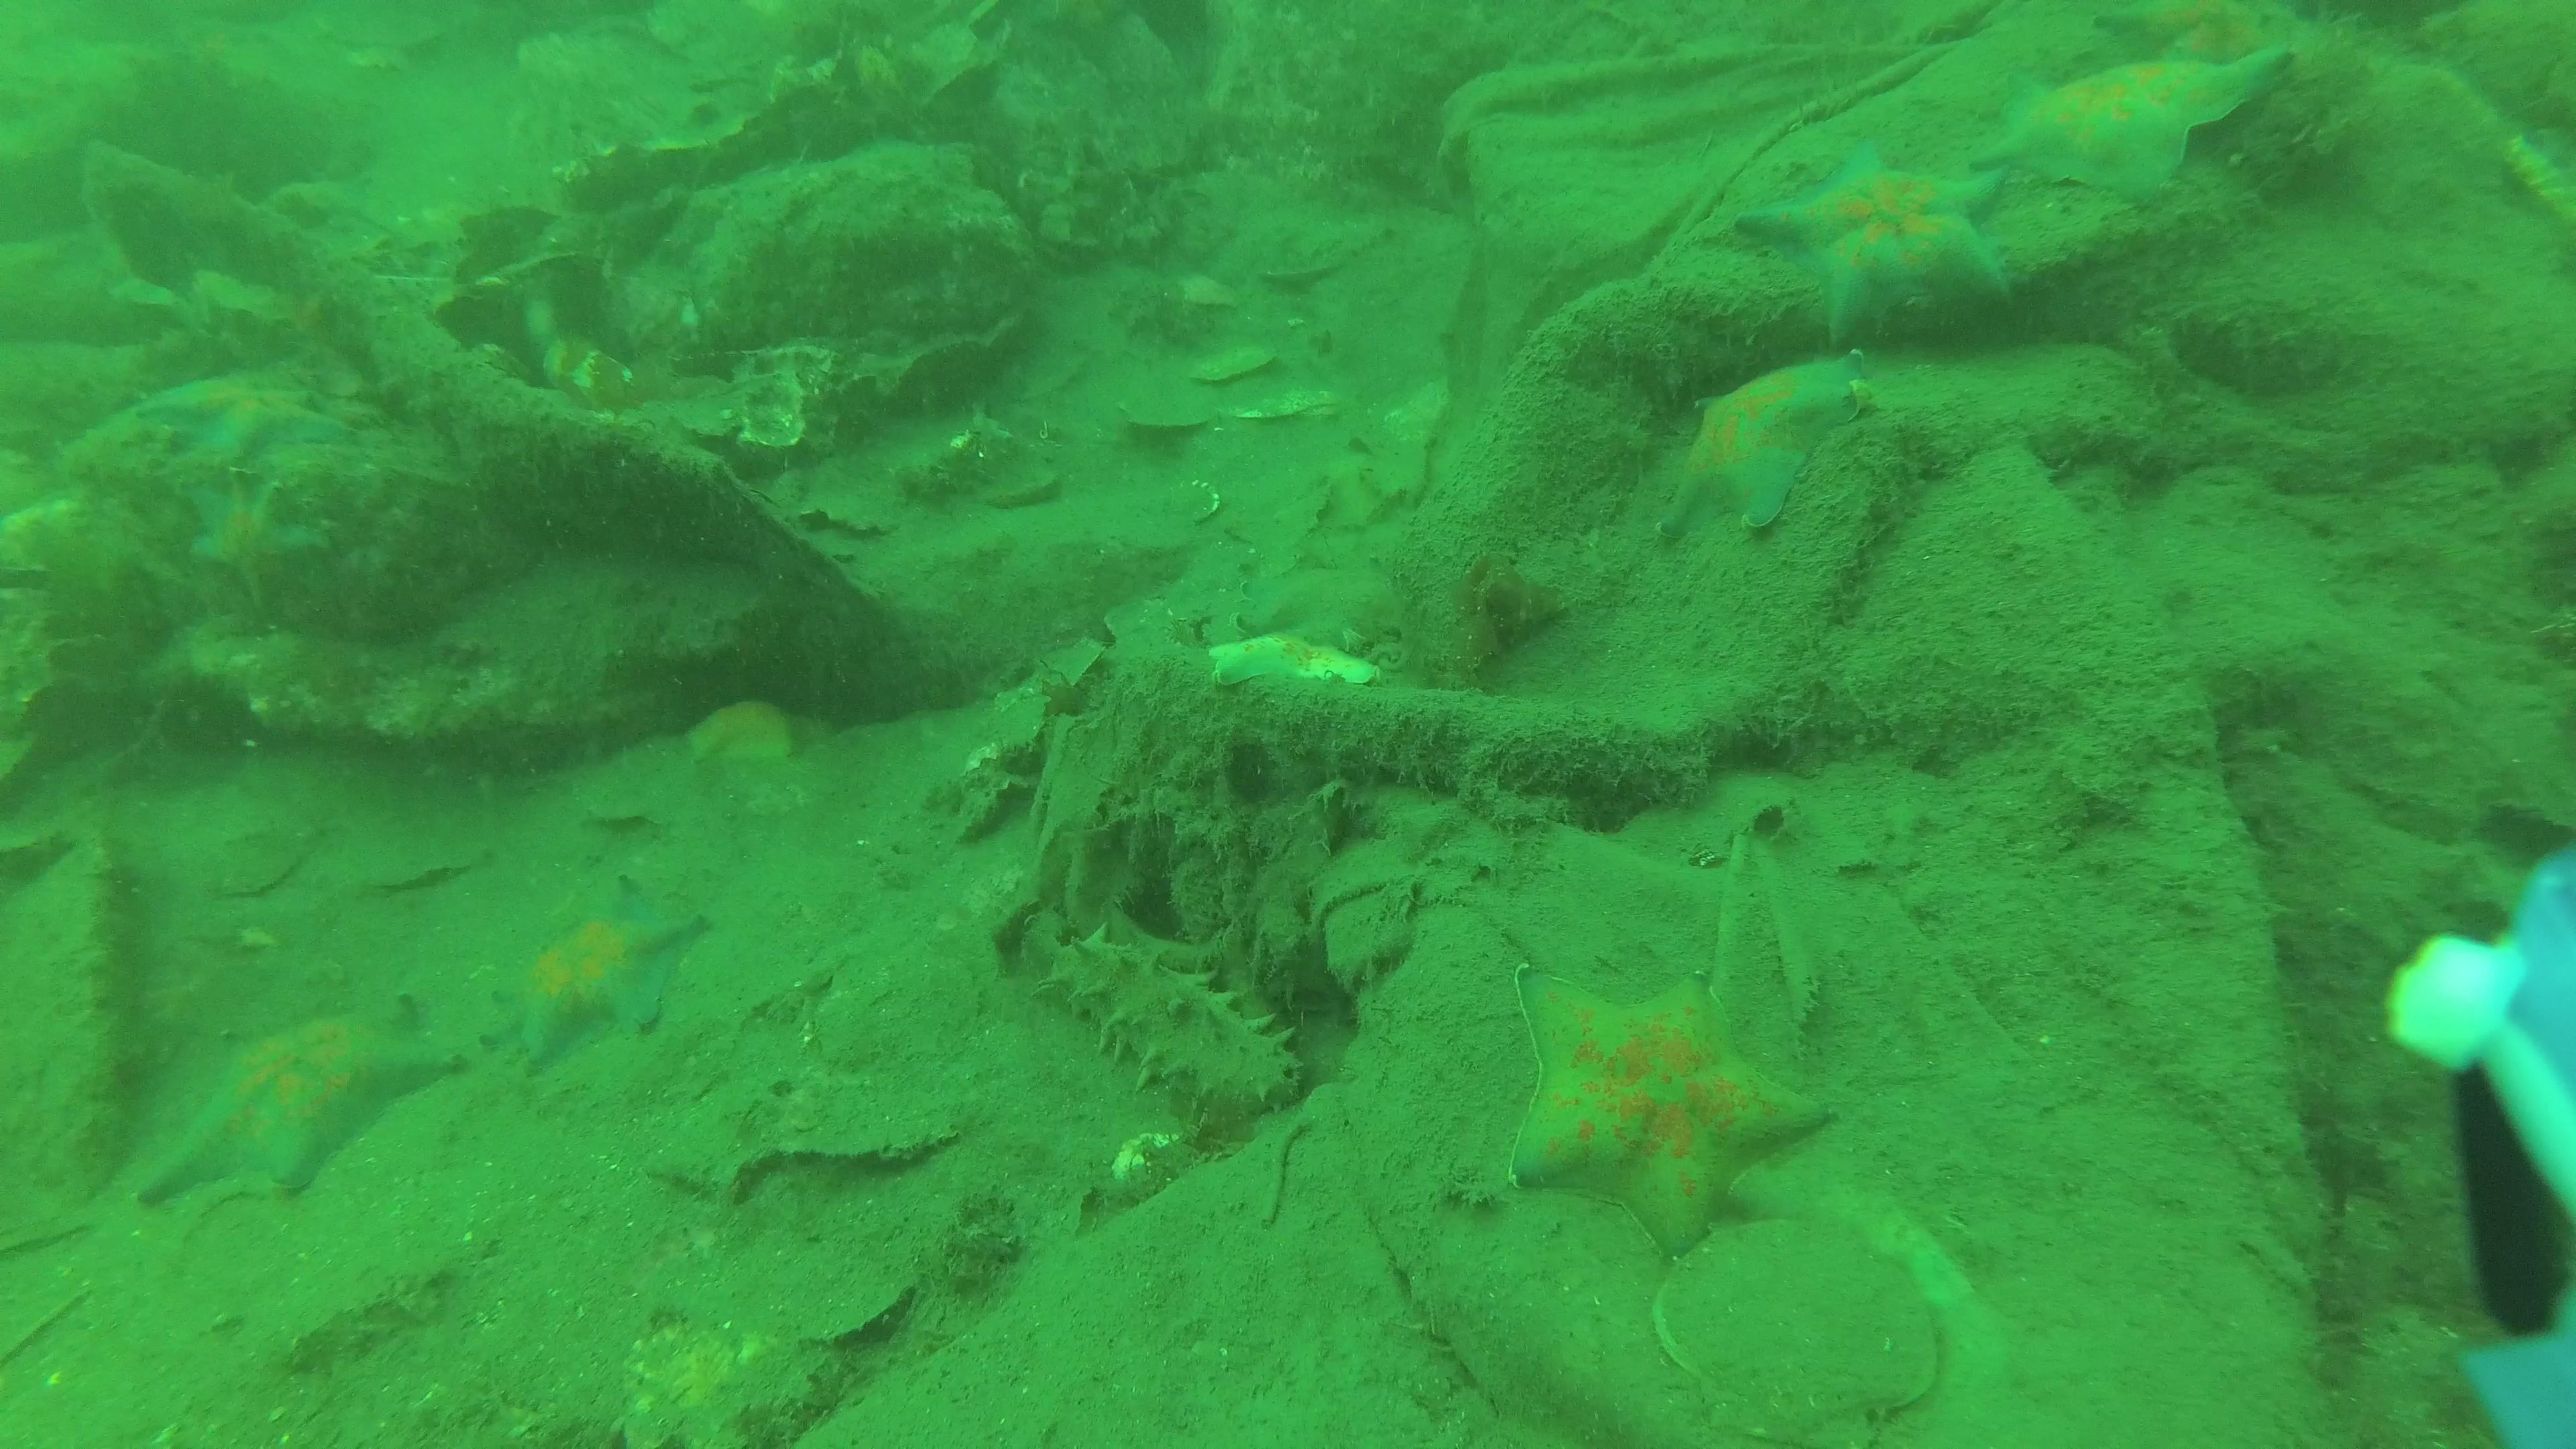holothurian: (1039, 922, 1307, 1113)
scallop: (1649, 1221, 1944, 1442), (649, 1077, 950, 1198), (186, 810, 320, 897), (354, 814, 501, 890), (1228, 219, 1387, 287), (1118, 389, 1226, 432), (1233, 386, 1341, 428), (580, 789, 685, 832), (1187, 343, 1277, 391), (980, 456, 1063, 504), (1102, 598, 1177, 642), (1157, 479, 1224, 522), (1175, 269, 1237, 311)
starfish: (1511, 961, 1838, 1226), (138, 1000, 464, 1198), (1732, 142, 2001, 345), (1974, 41, 2289, 205), (478, 885, 713, 1069), (1645, 352, 1865, 541), (134, 382, 350, 464), (189, 478, 333, 594), (1203, 637, 1380, 688), (681, 697, 794, 764)
